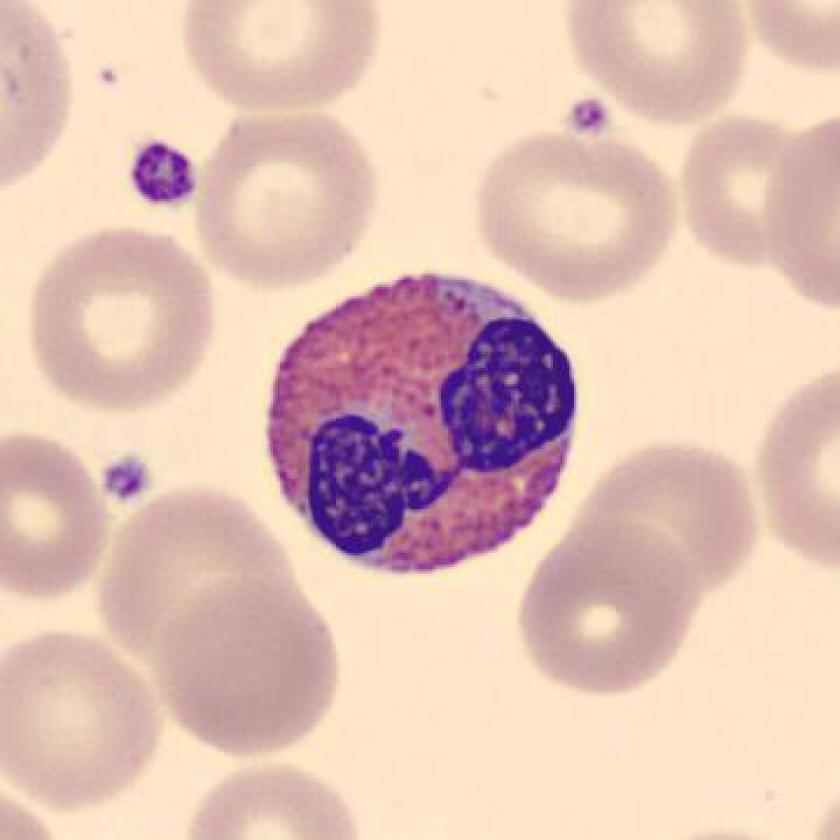eosinophil: (255, 260, 589, 589)
